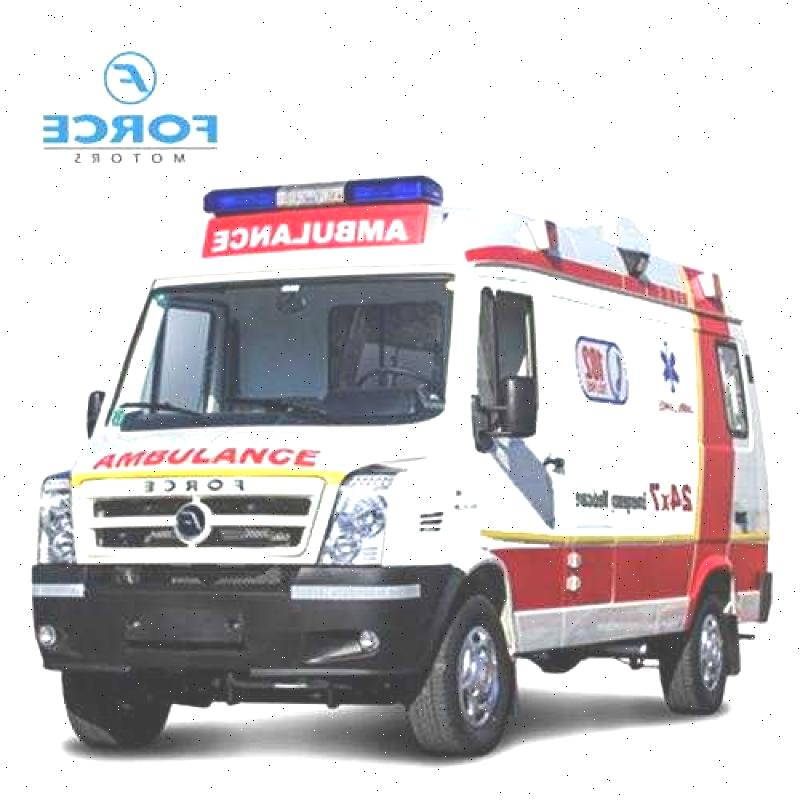AmbulanceSiren: (202, 150, 444, 224)
